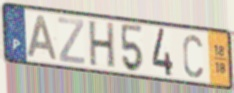4: (151, 27, 175, 78)
5: (119, 22, 145, 74)
A: (26, 14, 59, 62)
C: (182, 32, 205, 80)
H: (88, 20, 116, 71)
Z: (56, 16, 86, 67)
